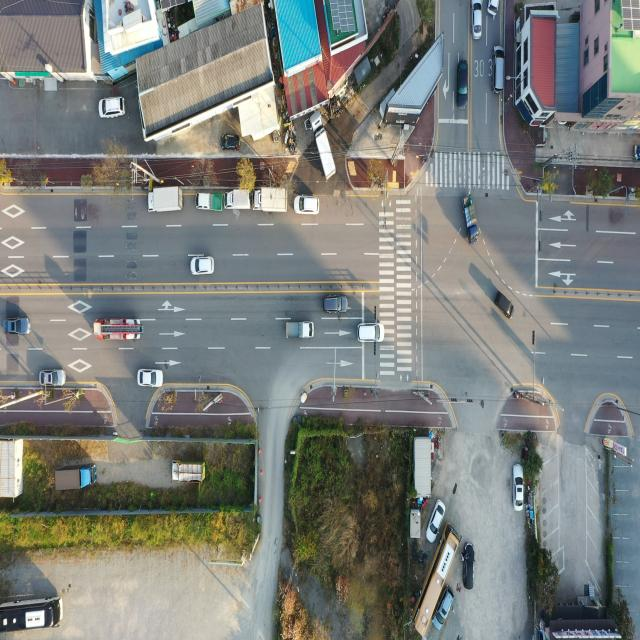car: (433, 580, 453, 630), (461, 542, 477, 589), (427, 502, 444, 545), (99, 96, 126, 119), (494, 43, 505, 97), (494, 291, 513, 321), (356, 325, 383, 345), (296, 196, 321, 216), (456, 61, 466, 111), (5, 317, 30, 336), (190, 255, 213, 275), (138, 368, 162, 387), (325, 294, 349, 313), (515, 464, 525, 509), (40, 370, 65, 387), (472, 0, 482, 39), (222, 135, 240, 151), (488, 0, 498, 16)
large_bus: (413, 523, 462, 640), (0, 594, 63, 632)
medium_truck: (310, 104, 340, 182), (93, 317, 141, 344), (54, 466, 97, 496), (147, 187, 184, 215), (252, 188, 286, 214)
small_truck: (171, 460, 207, 484), (462, 194, 477, 246), (221, 188, 251, 212), (197, 189, 223, 213), (286, 319, 313, 340)
